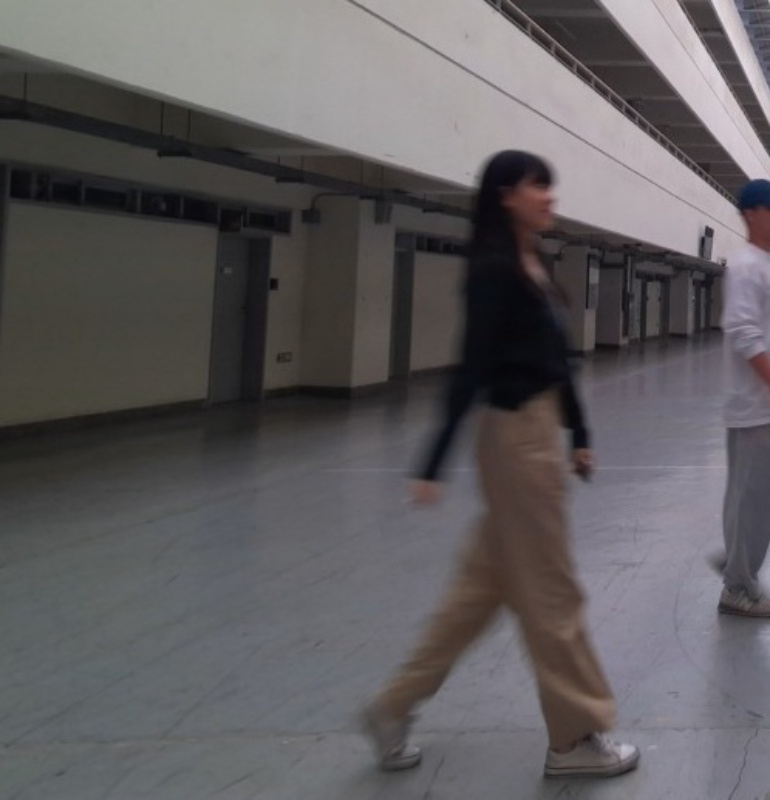person: (353, 151, 643, 780)
